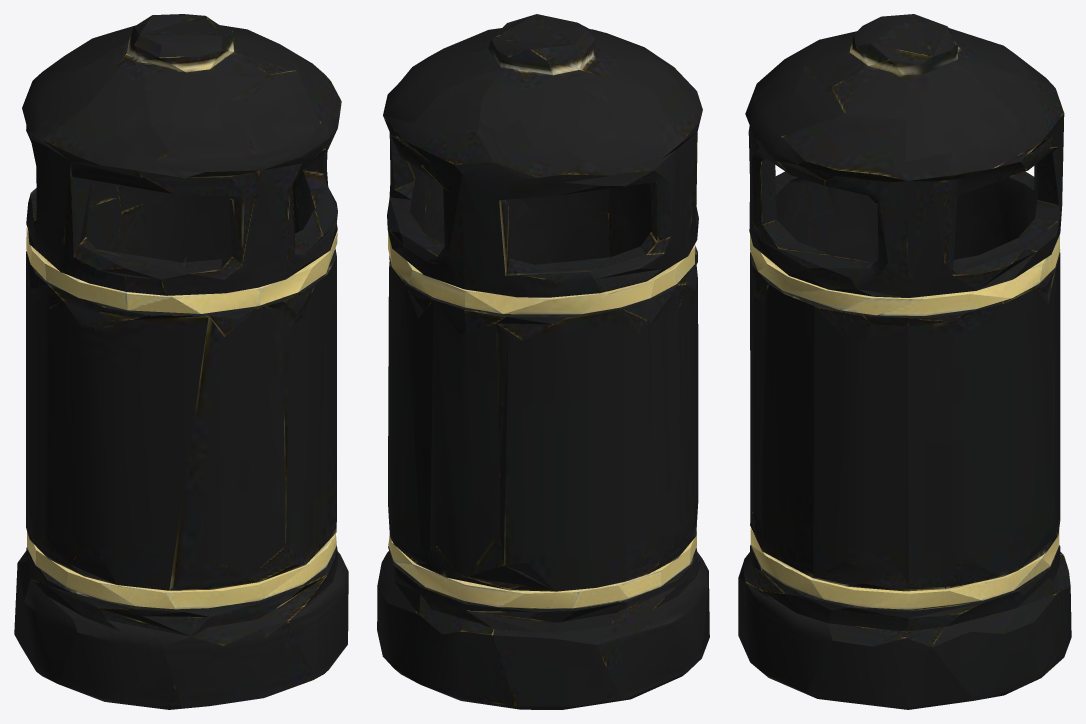
Rendered from prop_bin.glb.
3 renders of one model, left to right at view 1: azimuth 30°, elevation 25°; view 2: azimuth 150°, elevation 25°; view 3: azimuth 270°, elevation 25°, orthographic.
Parts seen in each view (by area): view 1: Mesh_0; view 2: Mesh_0; view 3: Mesh_0.
Boxes of the visible parts, <box> form: Mesh_0: <box>14,14,348,709</box>; Mesh_0: <box>377,14,709,709</box>; Mesh_0: <box>738,14,1071,709</box>.
Size of the model in its own units: 0.9419 by 1.9 by 0.9407.
Materials: 1 (1 with a texture image).
